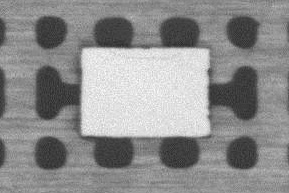DIE_CRACK: (122, 52, 182, 62)
